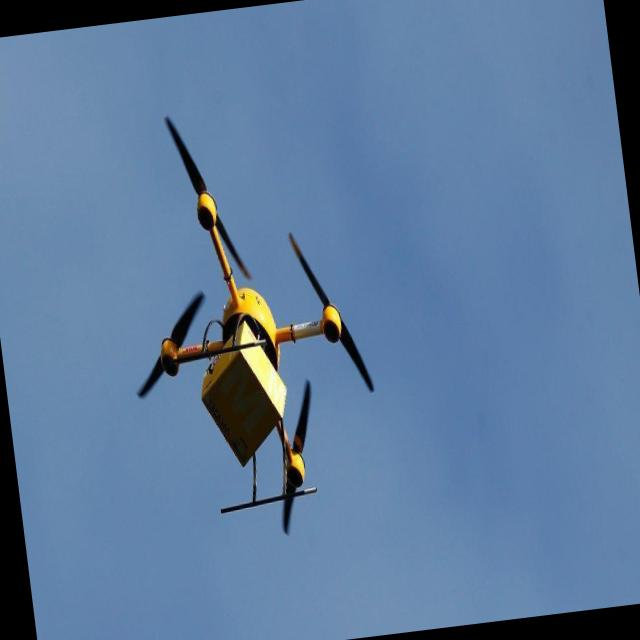drone: (101, 89, 391, 551)
